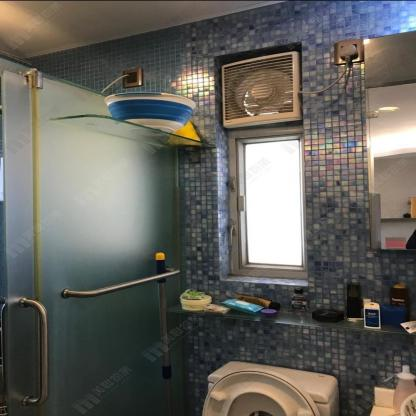Exhaust Fan: (222, 51, 302, 128)
Toilet: (201, 359, 341, 416)
Water Cubicle: (0, 58, 183, 416)
